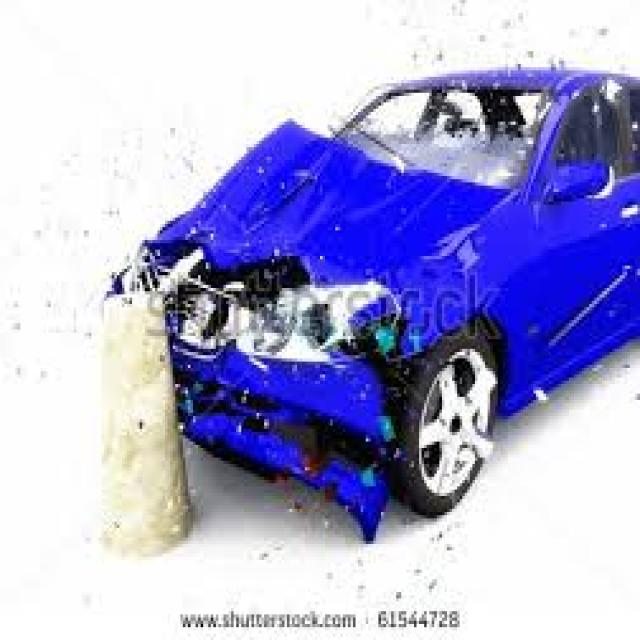severe: (145, 190, 483, 480)
